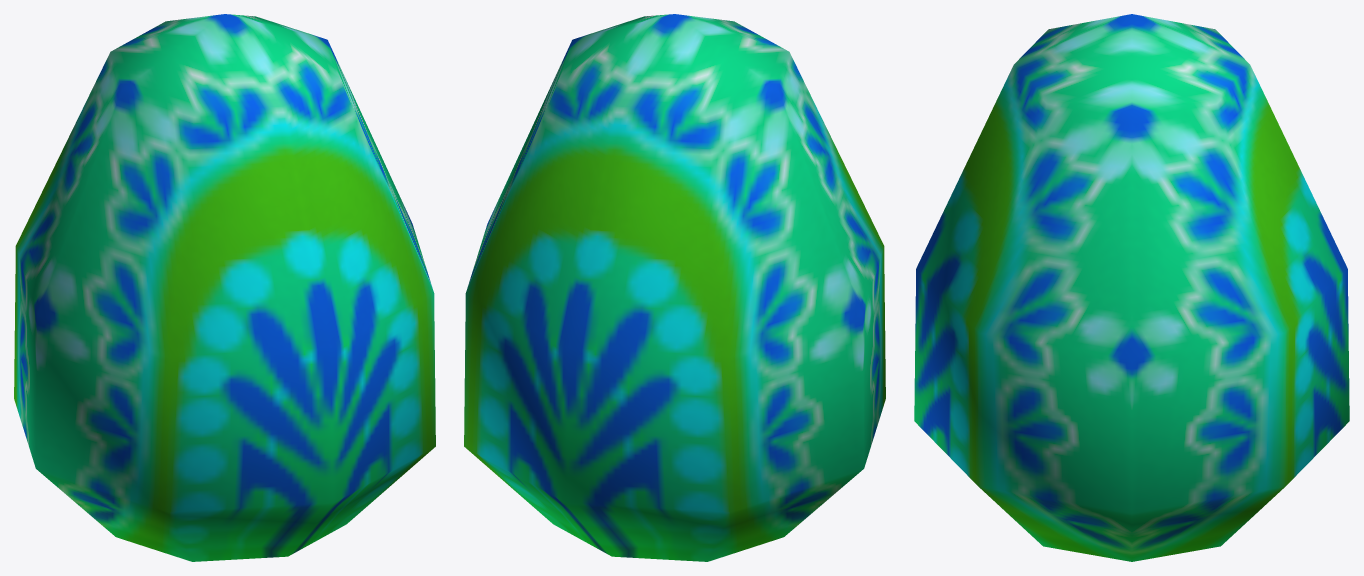
Rendered from Egg_09.FBX.
3 renders of one model, left to right at view 1: azimuth 30°, elevation 25°; view 2: azimuth 150°, elevation 25°; view 3: azimuth 270°, elevation 25°, orthographic.
Visible parts, largest first — view 1: Egg_09; view 2: Egg_09; view 3: Egg_09.
Boxes of the visible parts, x1=… form: Egg_09: x1=14, y1=14, x2=435, y2=561; Egg_09: x1=464, y1=14, x2=885, y2=561; Egg_09: x1=914, y1=14, x2=1349, y2=561.
Bounding box in the file's own units: 0.4665 × 0.604 × 0.4665.
